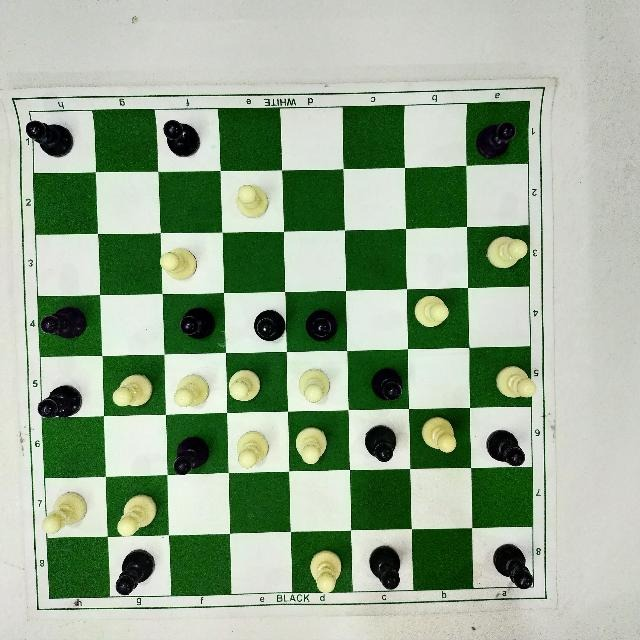black-pawn: (358, 537, 424, 592), (19, 114, 81, 166), (488, 538, 536, 596), (110, 544, 162, 596), (156, 112, 206, 162), (171, 428, 221, 477), (39, 300, 90, 346), (473, 118, 523, 163), (36, 384, 92, 424), (359, 418, 404, 467), (486, 422, 530, 472), (366, 362, 416, 404), (249, 301, 293, 348), (300, 302, 350, 343), (178, 305, 224, 349)
white-pawn: (36, 480, 96, 539), (478, 228, 534, 278), (107, 371, 162, 417), (151, 244, 210, 286), (111, 490, 163, 536), (416, 412, 464, 461), (303, 546, 350, 596), (490, 360, 544, 402), (229, 426, 276, 470), (295, 363, 339, 409), (170, 369, 218, 410), (224, 361, 266, 407), (235, 178, 277, 223), (412, 292, 454, 334), (293, 425, 335, 467)
